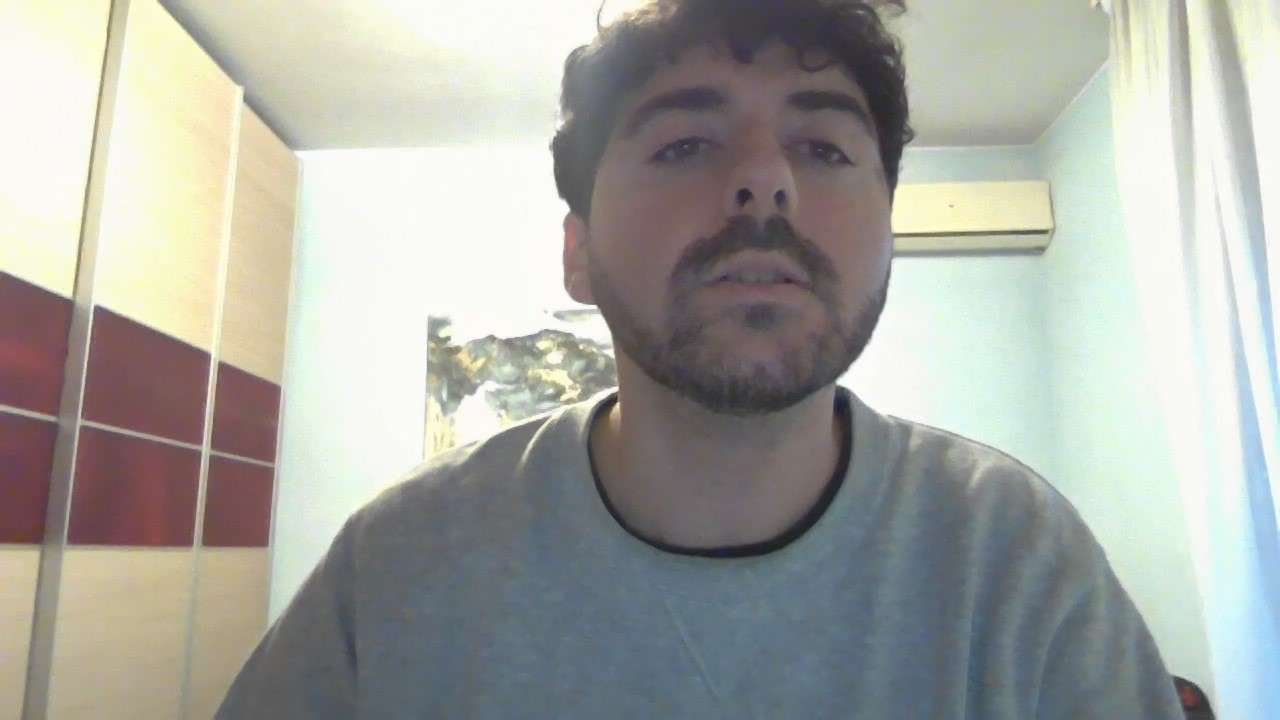NoGlasses: (555, 93, 929, 200)
